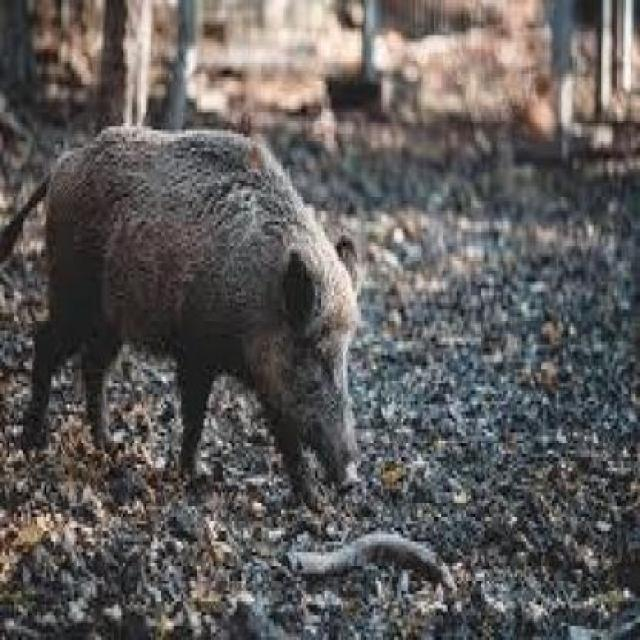wildboar: (0, 114, 366, 524)
